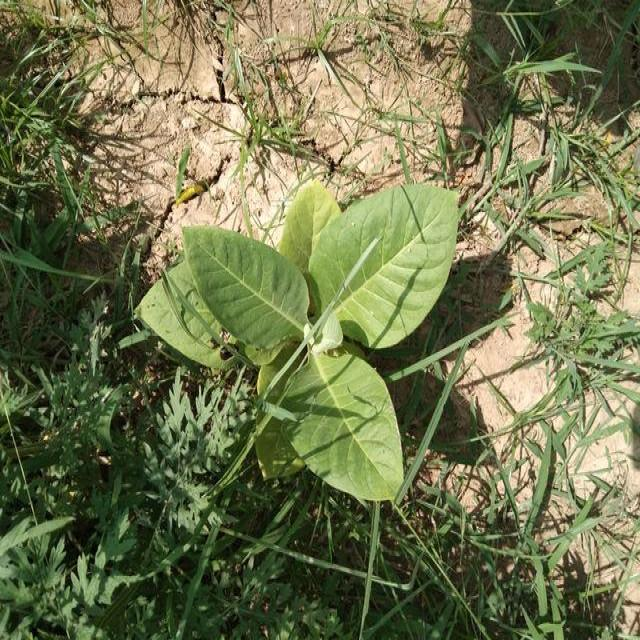crop: (152, 202, 471, 492)
